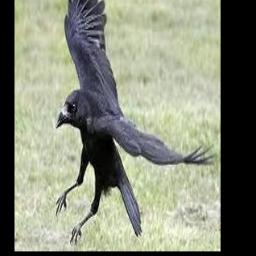Crow: (56, 0, 214, 243)
